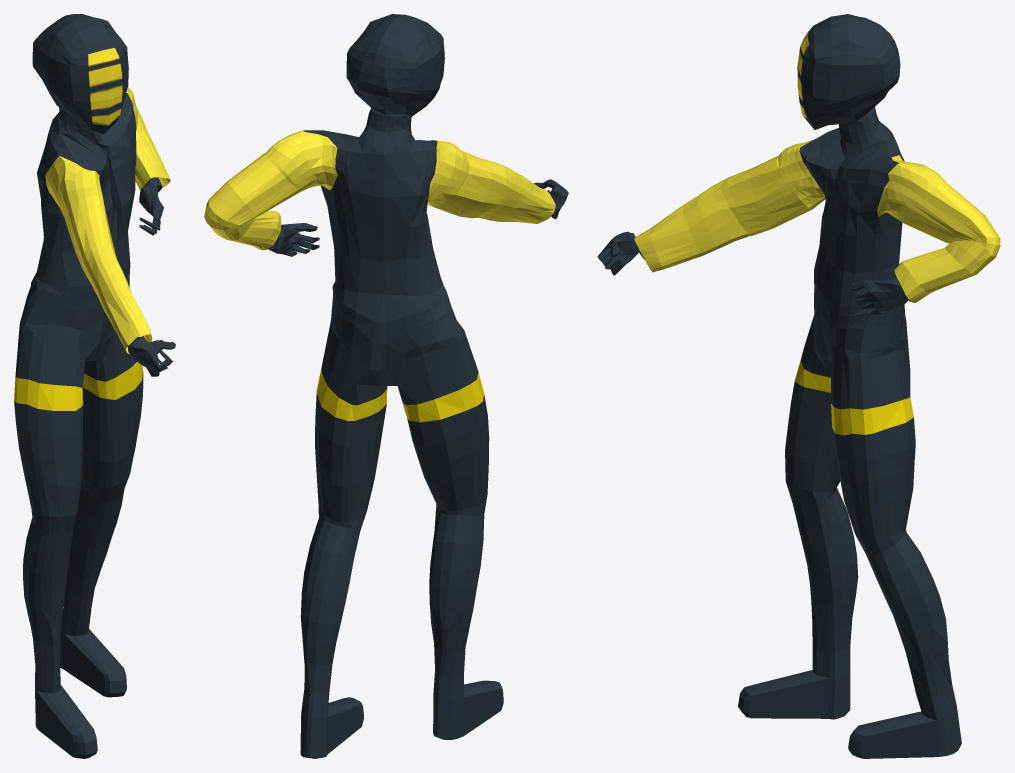
Rendered from Sentry_WB_000014.obj.
The picture shows the model from 3 angles, left to right: view 1: azimuth 30°, elevation 25°; view 2: azimuth 150°, elevation 25°; view 3: azimuth 270°, elevation 25°; orthographic projection. The views are drawn at different scales.
Parts seen in each view (by area): view 1: Cube; view 2: Cube; view 3: Cube.
Part boxes in pixels (x1,y1,x2,y2): Cube: [14, 14, 175, 758]; Cube: [204, 14, 568, 758]; Cube: [597, 14, 1000, 758].
Size of the model in its own units: 1.15 by 3.9 by 1.98.
